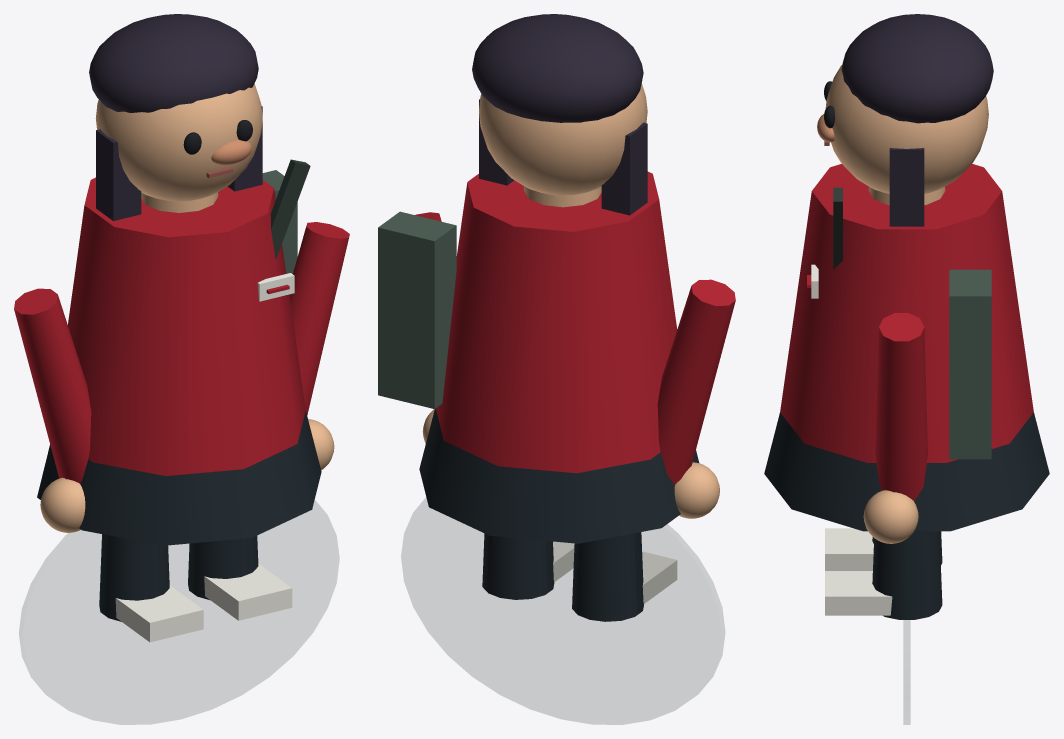
Rendered from player_female_red.glb.
3 renders of one model, left to right at view 1: azimuth 30°, elevation 25°; view 2: azimuth 150°, elevation 25°; view 3: azimuth 270°, elevation 25°, orthographic. The views are drawn at different scales.
Parts seen in each view (by area): view 1: torso, contact_shadow, skirt, hair_cap, head, arm_-0.255, arm_0.255, leg_-0.095, shoe_0.095, shoe_-0.095, leg_0.095, side_hair_-0.13 (+8 smaller); view 2: torso, contact_shadow, skirt, hair_cap, shoulder_bag, head, arm_-0.255, leg_-0.095, leg_0.095, side_hair_-0.13, hand_-0.255, shoe_-0.095 (+3 smaller); view 3: torso, skirt, hair_cap, head, arm_0.255, shoulder_bag, leg_0.095, side_hair_0.13, shoe_0.095, hand_0.255, shoe_-0.095, contact_shadow (+1 smaller).
Part boxes in pixels (box(x1,y1,x2,y2)): torso: box(68, 177, 305, 475); contact_shadow: box(19, 501, 338, 724); skirt: box(37, 411, 321, 545); hair_cap: box(89, 14, 258, 112); head: box(95, 84, 262, 201); arm_-0.255: box(14, 288, 91, 483); arm_0.255: box(289, 222, 349, 415); leg_-0.095: box(99, 534, 169, 621); shoe_0.095: box(204, 563, 292, 620); shoe_-0.095: box(115, 585, 203, 642); leg_0.095: box(188, 536, 258, 599); side_hair_-0.13: box(96, 129, 141, 220); torso: box(436, 171, 677, 473); contact_shadow: box(401, 498, 724, 724); skirt: box(419, 408, 699, 543); hair_cap: box(472, 14, 643, 122); shoulder_bag: box(378, 211, 456, 408); head: box(479, 83, 647, 195); arm_-0.255: box(657, 279, 735, 484); leg_-0.095: box(572, 532, 643, 621); leg_0.095: box(482, 533, 554, 599); side_hair_-0.13: box(601, 122, 647, 215); hand_-0.255: box(674, 462, 719, 518); shoe_-0.095: box(642, 551, 677, 603); torso: box(780, 164, 1033, 462); skirt: box(764, 412, 1049, 531); hair_cap: box(841, 14, 993, 123); head: box(825, 64, 988, 193); arm_0.255: box(875, 313, 927, 501); shoulder_bag: box(949, 269, 991, 459); leg_0.095: box(872, 531, 942, 619); side_hair_0.13: box(889, 148, 924, 226); shoe_0.095: box(825, 571, 892, 615); hand_0.255: box(863, 490, 918, 543); shoe_-0.095: box(825, 528, 873, 570); contact_shadow: box(904, 537, 909, 724).
Bounding box in the file's own units: 0.6906 × 1.38 × 0.5292.
